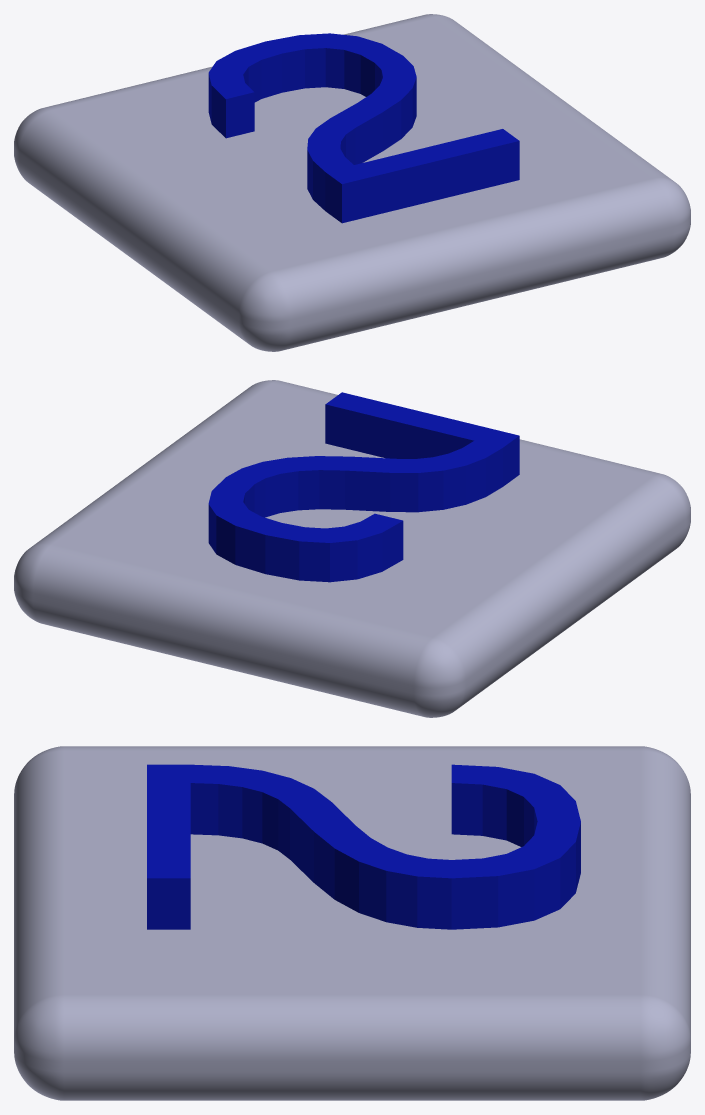
The model's file is button2.glb.
3 views of the same model, one above another, from view 1: azimuth 30°, elevation 25°; view 2: azimuth 150°, elevation 25°; view 3: azimuth 270°, elevation 25° (orthographic). The views are drawn at different scales.
Visible parts, largest first — view 1: Box, 3D Text - 2; view 2: Box, 3D Text - 2; view 3: Box, 3D Text - 2.
Part boxes in pixels (x1,y1,x2,y2): Box: (14, 14, 690, 351); 3D Text - 2: (208, 33, 519, 223); Box: (14, 380, 690, 717); 3D Text - 2: (208, 392, 519, 582); Box: (14, 746, 690, 1100); 3D Text - 2: (147, 764, 580, 929).
Bounding box in the file's own units: 0.1 × 0.0249 × 0.1.
